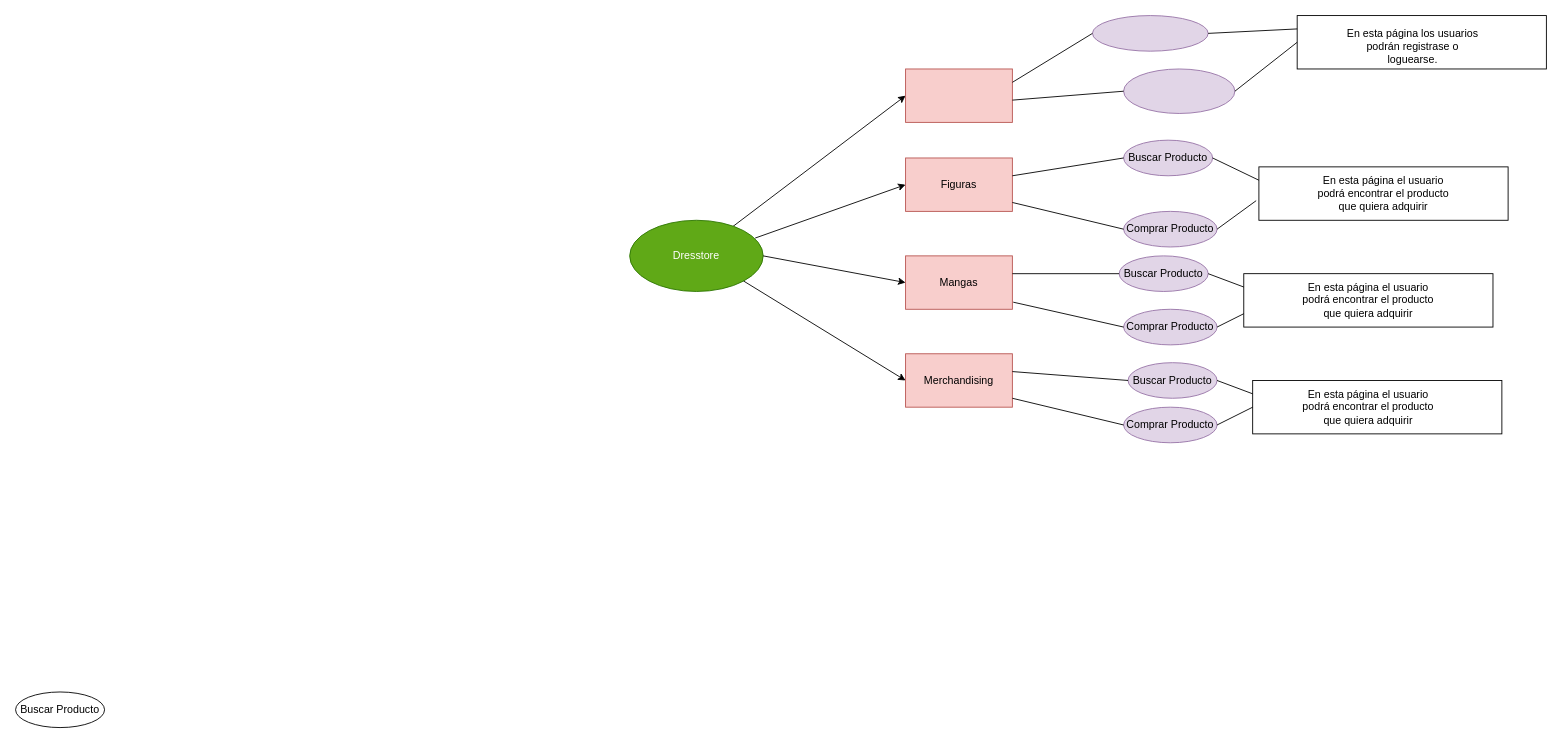
Image size: 1562x743. Some labels were removed from this diagram. The centre of each missing label's shape, as x and y in pixels:
"Login" goes at point (1179, 90).
"Registrarte" goes at point (1150, 33).
"Registro" goes at point (958, 95).
